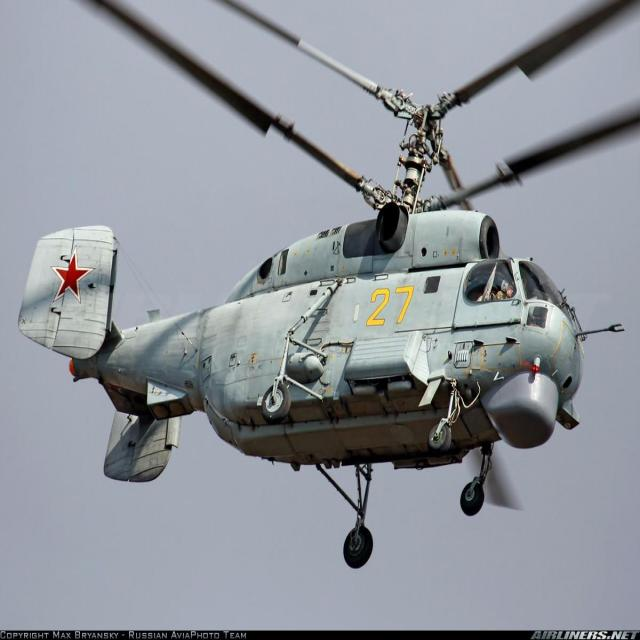MIL_HELO: (23, 1, 640, 568)
